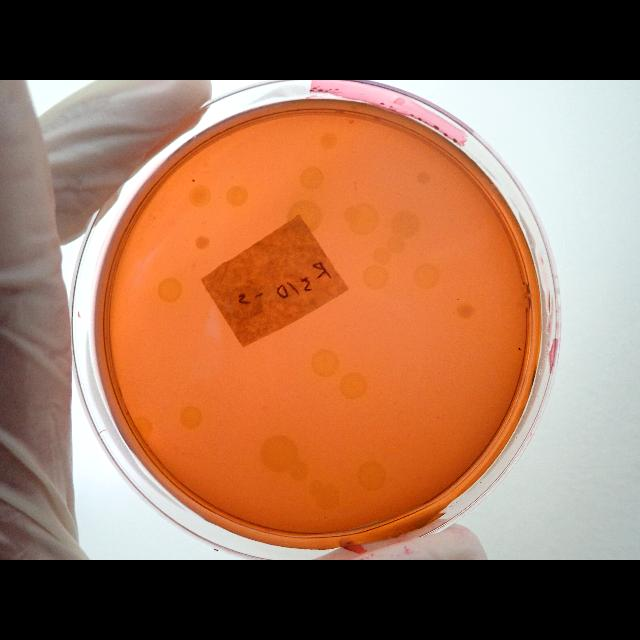colony: (518, 346, 522, 352), (192, 179, 196, 183), (324, 516, 328, 518), (351, 502, 353, 504)
